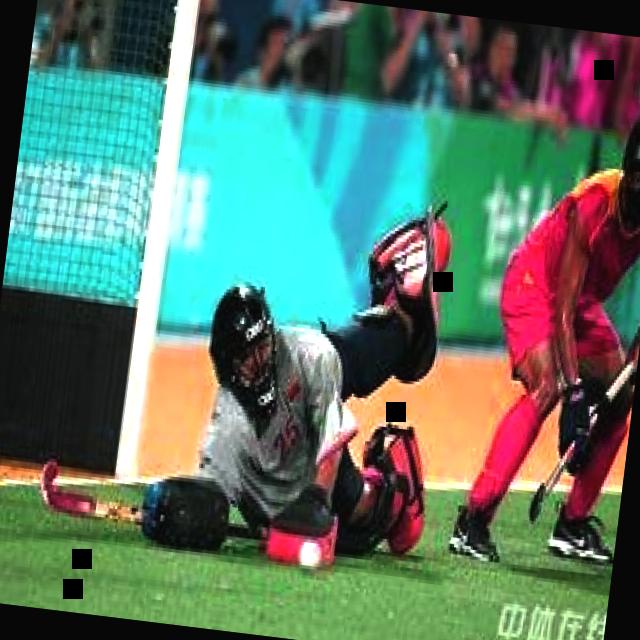Fall-Detected: (141, 145, 479, 570)
